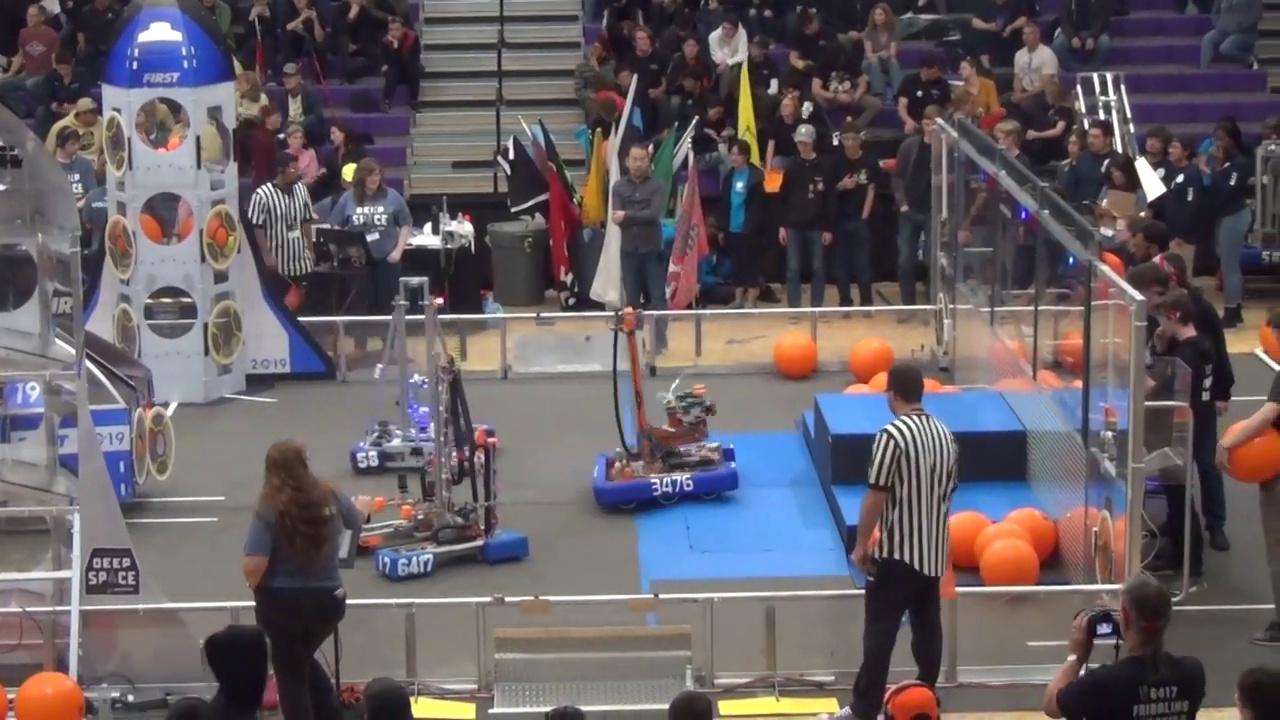robot: (344, 348, 534, 584), (584, 305, 744, 510), (349, 278, 501, 474)
